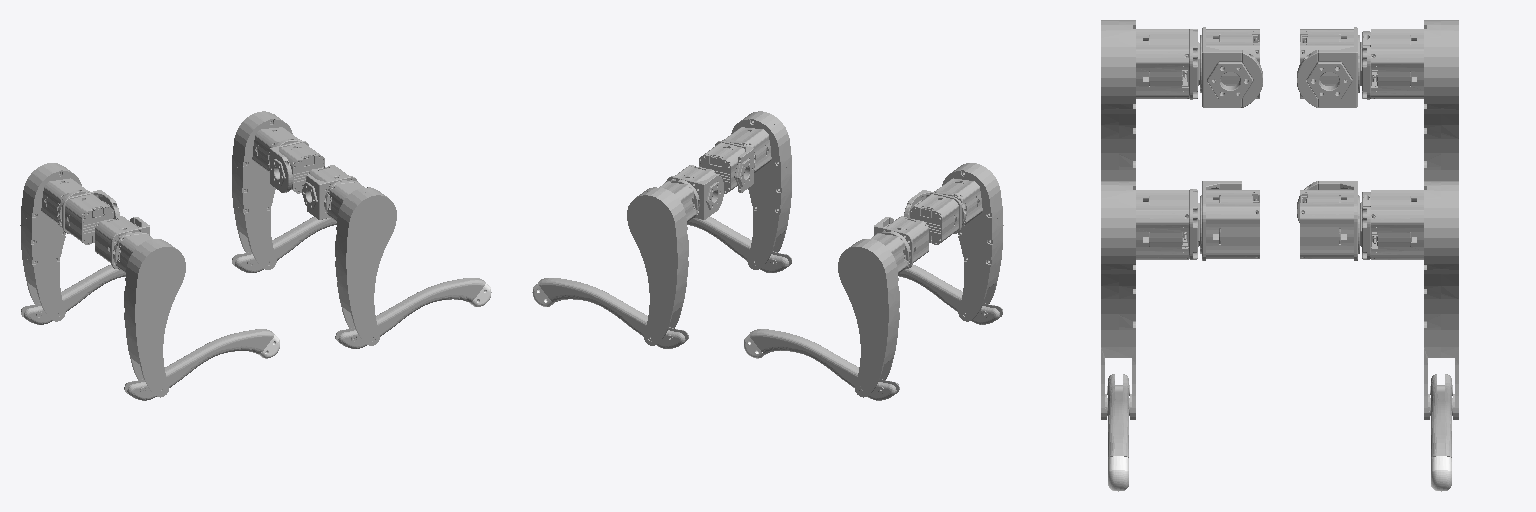
robot.urdf — HTDW_4438:
<?xml version="1.0" encoding="utf-8"?>
<!-- This URDF was automatically created by SolidWorks to URDF Exporter! Originally created by Stephen Brawner (brawner@gmail.com) 
     Commit Version: 1.6.0-4-g7f85cfe  Build Version: 1.6.7995.38578
     For more information, please see http://wiki.ros.org/sw_urdf_exporter -->
<robot
  name="HTDW_4438">
  <link
    name="base_link">
    <inertial>
      <origin
        xyz="0.00530896551307613 -0.00488146257129768 -0.00108926209888666"
        rpy="0 0 0" />
      <mass
        value="1.43623232112764" />
      <inertia
        ixx="0.00250133385652122"
        ixy="6.39361065374969E-07"
        ixz="-1.0452226731273E-05"
        iyy="0.00138602302847275"
        iyz="3.25031693171409E-06"
        izz="0.00209109142943327" />
    </inertial>
    <visual>
      <origin
        xyz="0 0 0"
        rpy="0 0 0" />
      <geometry>
        <mesh
          filename="package://HTDW_4438/meshes/base_link.STL" />
      </geometry>
      <material
        name="">
        <color
          rgba="0.752941176470588 0.752941176470588 0.752941176470588 1" />
      </material>
    </visual>
    <collision>
      <origin
        xyz="0 0 0"
        rpy="0 0 0" />
      <geometry>
        <mesh
          filename="package://HTDW_4438/meshes/base_link.STL" />
      </geometry>
    </collision>
  </link>
  <link
    name="FL_hip">
    <inertial>
      <origin
        xyz="-0.0111759629018527 0.00214843118796923 -6.73729768025972E-05"
        rpy="0 0 0" />
      <mass
        value="0.0627632437664346" />
      <inertia
        ixx="1.3803393905315E-05"
        ixy="6.66942635042805E-07"
        ixz="-7.58770616204289E-08"
        iyy="1.96862600319711E-05"
        iyz="-5.78497161164386E-10"
        izz="1.17112014993658E-05" />
    </inertial>
    <visual>
      <origin
        xyz="0 0 0"
        rpy="0 0 0" />
      <geometry>
        <mesh
          filename="package://HTDW_4438/meshes/FL_hip.STL" />
      </geometry>
      <material
        name="">
        <color
          rgba="0.752941176470588 0.752941176470588 0.752941176470588 1" />
      </material>
    </visual>
    <collision>
      <origin
        xyz="0 0 0"
        rpy="0 0 0" />
      <geometry>
        <mesh
          filename="package://HTDW_4438/meshes/FL_hip.STL" />
      </geometry>
    </collision>
  </link>
  <joint
    name="FL_hip_joint"
    type="revolute">
    <origin
      xyz="0.14165 0.037 0"
      rpy="0 0 0" />
    <parent
      link="base_link" />
    <child
      link="FL_hip" />
    <axis
      xyz="1 0 0" />
    <limit
      lower="-1.05"
      upper="1.05"
      effort="10"
      velocity="9.5" />
  </joint>
  <link
    name="FL_thigh">
    <inertial>
      <origin
        xyz="-0.00521760104508412 -0.00884351155354038 -0.0377205675754853"
        rpy="0 0 0" />
      <mass
        value="0.264760738721982" />
      <inertia
        ixx="0.000419195858566498"
        ixy="2.0373823188593E-07"
        ixz="3.32812781125961E-05"
        iyy="0.000482532194951316"
        iyz="1.4016386593396E-06"
        izz="7.04214920355373E-05" />
    </inertial>
    <visual>
      <origin
        xyz="0 0 0"
        rpy="0 0 0" />
      <geometry>
        <mesh
          filename="package://HTDW_4438/meshes/FL_thigh.STL" />
      </geometry>
      <material
        name="">
        <color
          rgba="0.752941176470588 0.752941176470588 0.752941176470588 1" />
      </material>
    </visual>
    <collision>
      <origin
        xyz="0 0 0"
        rpy="0 0 0" />
      <geometry>
        <mesh
          filename="package://HTDW_4438/meshes/FL_thigh.STL" />
      </geometry>
    </collision>
  </link>
  <joint
    name="FL_thigh_joint"
    type="revolute">
    <origin
      xyz="0 0.0834 0"
      rpy="0 0 0" />
    <parent
      link="FL_hip" />
    <child
      link="FL_thigh" />
    <axis
      xyz="0 1 0" />
    <limit
      lower="-1.57"
      upper="3.49"
      effort="10"
      velocity="9.5" />
  </joint>
  <link
    name="FL_calf">
    <inertial>
      <origin
        xyz="0.0102816704612575 1.62244585370785E-06 -0.0628030759324845"
        rpy="0 0 0" />
      <mass
        value="0.153268276445712" />
      <inertia
        ixx="0.000477376654736183"
        ixy="-3.21834592213819E-09"
        ixz="-3.36524070741435E-05"
        iyy="0.000486852091359258"
        iyz="1.61974553789063E-08"
        izz="1.52089082122725E-05" />
    </inertial>
    <visual>
      <origin
        xyz="0 0 0"
        rpy="0 0 0" />
      <geometry>
        <mesh
          filename="package://HTDW_4438/meshes/FL_calf.STL" />
      </geometry>
      <material
        name="">
        <color
          rgba="0.752941176470588 0.752941176470588 0.752941176470588 1" />
      </material>
    </visual>
    <collision>
      <origin
        xyz="0 0 0"
        rpy="0 0 0" />
      <geometry>
        <mesh
          filename="package://HTDW_4438/meshes/FL_calf.STL" />
      </geometry>
    </collision>
  </link>
  <joint
    name="FL_calf_joint"
    type="revolute">
    <origin
      xyz="0 0 -0.15"
      rpy="0 0 0" />
    <parent
      link="FL_thigh" />
    <child
      link="FL_calf" />
    <axis
      xyz="0 1 0" />
    <limit
      lower="-2.53"
      upper="-0.84"
      effort="10"
      velocity="9.5" />
  </joint>
  <link
    name="FL_foot">
    <inertial>
      <origin
        xyz="-0.0039627037166873 -1.23541049612541E-09 -0.00314460024957436"
        rpy="0 0 0" />
      <mass
        value="0.0049215011738973" />
      <inertia
        ixx="3.63899112539145E-07"
        ixy="-3.6349439944636E-14"
        ixz="-7.35255072020136E-08"
        iyy="4.62050344128477E-07"
        iyz="6.12968834920132E-16"
        izz="3.29588352929664E-07" />
    </inertial>
    <visual>
      <origin
        xyz="0 0 0"
        rpy="0 0 0" />
      <geometry>
        <mesh
          filename="package://HTDW_4438/meshes/FL_foot.STL" />
      </geometry>
      <material
        name="">
        <color
          rgba="1 1 1 1" />
      </material>
    </visual>
    <collision>
      <origin
        xyz="0 0 0"
        rpy="0 0 0" />
      <geometry>
        <mesh
          filename="package://HTDW_4438/meshes/FL_foot.STL" />
      </geometry>
    </collision>
  </link>
  <joint
    name="FL_foot"
    type="fixed">
    <origin
      xyz="0 0 -0.15"
      rpy="0 0 0" />
    <parent
      link="FL_calf" />
    <child
      link="FL_foot" />
    <axis
      xyz="0 0 0" />
  </joint>
  <link
    name="FR_hip">
    <inertial>
      <origin
        xyz="-0.0111759629055673 -0.00214843119110724 6.73729796222785E-05"
        rpy="0 0 0" />
      <mass
        value="0.0627632437546341" />
      <inertia
        ixx="1.38033939009228E-05"
        ixy="-6.66942636253563E-07"
        ixz="7.58770633167143E-08"
        iyy="1.96862600280616E-05"
        iyz="-5.7849509493772E-10"
        izz="1.17112014969011E-05" />
    </inertial>
    <visual>
      <origin
        xyz="0 0 0"
        rpy="0 0 0" />
      <geometry>
        <mesh
          filename="package://HTDW_4438/meshes/FR_hip.STL" />
      </geometry>
      <material
        name="">
        <color
          rgba="0.752941176470588 0.752941176470588 0.752941176470588 1" />
      </material>
    </visual>
    <collision>
      <origin
        xyz="0 0 0"
        rpy="0 0 0" />
      <geometry>
        <mesh
          filename="package://HTDW_4438/meshes/FR_hip.STL" />
      </geometry>
    </collision>
  </link>
  <joint
    name="FR_hip_joint"
    type="revolute">
    <origin
      xyz="0.14165 -0.037 0"
      rpy="0 0 0" />
    <parent
      link="base_link" />
    <child
      link="FR_hip" />
    <axis
      xyz="1 0 0" />
    <limit
      lower="-1.05"
      upper="1.05"
      effort="10"
      velocity="9.5" />
  </joint>
  <link
    name="FR_thigh">
    <inertial>
      <origin
        xyz="-0.00549077126620562 0.00884349936829019 -0.0378283464808343"
        rpy="0 0 0" />
      <mass
        value="0.264761547925638" />
      <inertia
        ixx="0.000419698172836128"
        ixy="-1.23534365954169E-07"
        ixz="3.05313061101494E-05"
        iyy="0.000482533495029312"
        iyz="-1.39999132850167E-06"
        izz="6.99205189115521E-05" />
    </inertial>
    <visual>
      <origin
        xyz="0 0 0"
        rpy="0 0 0" />
      <geometry>
        <mesh
          filename="package://HTDW_4438/meshes/FR_thigh.STL" />
      </geometry>
      <material
        name="">
        <color
          rgba="0.752941176470588 0.752941176470588 0.752941176470588 1" />
      </material>
    </visual>
    <collision>
      <origin
        xyz="0 0 0"
        rpy="0 0 0" />
      <geometry>
        <mesh
          filename="package://HTDW_4438/meshes/FR_thigh.STL" />
      </geometry>
    </collision>
  </link>
  <joint
    name="FR_thigh_joint"
    type="revolute">
    <origin
      xyz="0 -0.0834 0"
      rpy="0 0 0" />
    <parent
      link="FR_hip" />
    <child
      link="FR_thigh" />
    <axis
      xyz="0 1 0" />
    <limit
      lower="-1.57"
      upper="3.49"
      effort="10"
      velocity="9.5" />
  </joint>
  <link
    name="FR_calf">
    <inertial>
      <origin
        xyz="0.010281672231896 1.62243905685311E-06 -0.0628030804638195"
        rpy="0 0 0" />
      <mass
        value="0.153268271042767" />
      <inertia
        ixx="0.00047737663251671"
        ixy="-3.21812814736722E-09"
        ixz="-3.36524026483139E-05"
        iyy="0.000486852067849437"
        iyz="1.61967931245156E-08"
        izz="1.52089068420327E-05" />
    </inertial>
    <visual>
      <origin
        xyz="0 0 0"
        rpy="0 0 0" />
      <geometry>
        <mesh
          filename="package://HTDW_4438/meshes/FR_calf.STL" />
      </geometry>
      <material
        name="">
        <color
          rgba="0.752941176470588 0.752941176470588 0.752941176470588 1" />
      </material>
    </visual>
    <collision>
      <origin
        xyz="0 0 0"
        rpy="0 0 0" />
      <geometry>
        <mesh
          filename="package://HTDW_4438/meshes/FR_calf.STL" />
      </geometry>
    </collision>
  </link>
  <joint
    name="FR_calf"
    type="revolute">
    <origin
      xyz="0 0 -0.15"
      rpy="0 0 0" />
    <parent
      link="FR_thigh" />
    <child
      link="FR_calf" />
    <axis
      xyz="0 1 0" />
    <limit
      lower="-2.53"
      upper="-0.84"
      effort="10"
      velocity="9.5" />
  </joint>
  <link
    name="FR_foot">
    <inertial>
      <origin
        xyz="-0.00396270246877165 -1.15568347947015E-09 -0.00314460329835686"
        rpy="0 0 0" />
      <mass
        value="0.0049215011738973" />
      <inertia
        ixx="3.63899112539147E-07"
        ixy="-3.63494401535996E-14"
        ixz="-7.35255072020139E-08"
        iyy="4.62050344128478E-07"
        iyz="6.12969100832827E-16"
        izz="3.29588352929664E-07" />
    </inertial>
    <visual>
      <origin
        xyz="0 0 0"
        rpy="0 0 0" />
      <geometry>
        <mesh
          filename="package://HTDW_4438/meshes/FR_foot.STL" />
      </geometry>
      <material
        name="">
        <color
          rgba="1 1 1 1" />
      </material>
    </visual>
    <collision>
      <origin
        xyz="0 0 0"
        rpy="0 0 0" />
      <geometry>
        <mesh
          filename="package://HTDW_4438/meshes/FR_foot.STL" />
      </geometry>
    </collision>
  </link>
  <joint
    name="FR_foot_joint"
    type="fixed">
    <origin
      xyz="0 0 -0.15"
      rpy="0 0 0" />
    <parent
      link="FR_calf" />
    <child
      link="FR_foot" />
    <axis
      xyz="0 0 0" />
  </joint>
  <link
    name="RL_hip">
    <inertial>
      <origin
        xyz="0.01117596290331 0.0021484311877196 6.73729766615227E-05"
        rpy="0 0 0" />
      <mass
        value="0.0627632437669057" />
      <inertia
        ixx="1.38033939057253E-05"
        ixy="-6.66942637432808E-07"
        ixz="-7.58770648949294E-08"
        iyy="1.96862600319623E-05"
        iyz="5.78497392467767E-10"
        izz="1.17112014994272E-05" />
    </inertial>
    <visual>
      <origin
        xyz="0 0 0"
        rpy="0 0 0" />
      <geometry>
        <mesh
          filename="package://HTDW_4438/meshes/RL_hip.STL" />
      </geometry>
      <material
        name="">
        <color
          rgba="0.752941176470588 0.752941176470588 0.752941176470588 1" />
      </material>
    </visual>
    <collision>
      <origin
        xyz="0 0 0"
        rpy="0 0 0" />
      <geometry>
        <mesh
          filename="package://HTDW_4438/meshes/RL_hip.STL" />
      </geometry>
    </collision>
  </link>
  <joint
    name="RL_hip_joint"
    type="revolute">
    <origin
      xyz="-0.14165 0.037 0"
      rpy="0 0 0" />
    <parent
      link="base_link" />
    <child
      link="RL_hip" />
    <axis
      xyz="1 0 0" />
    <limit
      lower="-1.05"
      upper="1.05"
      effort="10"
      velocity="9.5" />
  </joint>
  <link
    name="RL_thigh">
    <inertial>
      <origin
        xyz="-0.00547943405095322 -0.00884351240774998 -0.0377313917818914"
        rpy="0 0 0" />
      <mass
        value="0.264760738558349" />
      <inertia
        ixx="0.00041915228548236"
        ixy="1.23634804848232E-07"
        ixz="3.27510424560042E-05"
        iyy="0.000482532194887537"
        iyz="1.39845403438416E-06"
        izz="7.04650650580959E-05" />
    </inertial>
    <visual>
      <origin
        xyz="0 0 0"
        rpy="0 0 0" />
      <geometry>
        <mesh
          filename="package://HTDW_4438/meshes/RL_thigh.STL" />
      </geometry>
      <material
        name="">
        <color
          rgba="0.752941176470588 0.752941176470588 0.752941176470588 1" />
      </material>
    </visual>
    <collision>
      <origin
        xyz="0 0 0"
        rpy="0 0 0" />
      <geometry>
        <mesh
          filename="package://HTDW_4438/meshes/RL_thigh.STL" />
      </geometry>
    </collision>
  </link>
  <joint
    name="RL_thigh_joint"
    type="revolute">
    <origin
      xyz="0 0.0834 0"
      rpy="0 0 0" />
    <parent
      link="RL_hip" />
    <child
      link="RL_thigh" />
    <axis
      xyz="0 1 0" />
    <limit
      lower="-1.57"
      upper="3.49"
      effort="10"
      velocity="9.5" />
  </joint>
  <link
    name="RL_calf">
    <inertial>
      <origin
        xyz="0.0102816705479437 1.62242974789673E-06 -0.0628030755658535"
        rpy="0 0 0" />
      <mass
        value="0.153268275649899" />
      <inertia
        ixx="0.000477376652292343"
        ixy="-3.21831137380456E-09"
        ixz="-3.36524076725698E-05"
        iyy="0.000486852088816872"
        iyz="1.61975255898789E-08"
        izz="1.52089081255875E-05" />
    </inertial>
    <visual>
      <origin
        xyz="0 0 0"
        rpy="0 0 0" />
      <geometry>
        <mesh
          filename="package://HTDW_4438/meshes/RL_calf.STL" />
      </geometry>
      <material
        name="">
        <color
          rgba="0.752941176470588 0.752941176470588 0.752941176470588 1" />
      </material>
    </visual>
    <collision>
      <origin
        xyz="0 0 0"
        rpy="0 0 0" />
      <geometry>
        <mesh
          filename="package://HTDW_4438/meshes/RL_calf.STL" />
      </geometry>
    </collision>
  </link>
  <joint
    name="RL_calf_joint"
    type="revolute">
    <origin
      xyz="0 0 -0.15"
      rpy="0 0 0" />
    <parent
      link="RL_thigh" />
    <child
      link="RL_calf" />
    <axis
      xyz="0 1 0" />
    <limit
      lower="-2.53"
      upper="-0.84"
      effort="10"
      velocity="9.5" />
  </joint>
  <link
    name="RL_foot">
    <inertial>
      <origin
        xyz="-0.00396270368124382 -1.23541084307011E-09 -0.00314460018815149"
        rpy="0 0 0" />
      <mass
        value="0.00492150117389732" />
      <inertia
        ixx="3.63899112539148E-07"
        ixy="-3.63494399192149E-14"
        ixz="-7.35255072020145E-08"
        iyy="4.6205034412848E-07"
        iyz="6.12968247237204E-16"
        izz="3.29588352929665E-07" />
    </inertial>
    <visual>
      <origin
        xyz="0 0 0"
        rpy="0 0 0" />
      <geometry>
        <mesh
          filename="package://HTDW_4438/meshes/RL_foot.STL" />
      </geometry>
      <material
        name="">
        <color
          rgba="1 1 1 1" />
      </material>
    </visual>
    <collision>
      <origin
        xyz="0 0 0"
        rpy="0 0 0" />
      <geometry>
        <mesh
          filename="package://HTDW_4438/meshes/RL_foot.STL" />
      </geometry>
    </collision>
  </link>
  <joint
    name="RL_foot_joint"
    type="fixed">
    <origin
      xyz="0 0 -0.15"
      rpy="0 0 0" />
    <parent
      link="RL_calf" />
    <child
      link="RL_foot" />
    <axis
      xyz="0 0 0" />
  </joint>
  <link
    name="RR_hip">
    <inertial>
      <origin
        xyz="0.0111759629018528 -0.00214843118796951 -6.73729768046417E-05"
        rpy="0 0 0" />
      <mass
        value="0.0627632437664321" />
      <inertia
        ixx="1.38033939053113E-05"
        ixy="6.66942635042661E-07"
        ixz="7.58770616206376E-08"
        iyy="1.96862600319675E-05"
        iyz="5.78497160273416E-10"
        izz="1.17112014993653E-05" />
    </inertial>
    <visual>
      <origin
        xyz="0 0 0"
        rpy="0 0 0" />
      <geometry>
        <mesh
          filename="package://HTDW_4438/meshes/RR_hip.STL" />
      </geometry>
      <material
        name="">
        <color
          rgba="0.752941176470588 0.752941176470588 0.752941176470588 1" />
      </material>
    </visual>
    <collision>
      <origin
        xyz="0 0 0"
        rpy="0 0 0" />
      <geometry>
        <mesh
          filename="package://HTDW_4438/meshes/RR_hip.STL" />
      </geometry>
    </collision>
  </link>
  <joint
    name="RR_hip_joint"
    type="revolute">
    <origin
      xyz="-0.14165 -0.037 0"
      rpy="0 0 0" />
    <parent
      link="base_link" />
    <child
      link="RR_hip" />
    <axis
      xyz="1 0 0" />
    <limit
      lower="-1.05"
      upper="1.05"
      effort="10"
      velocity="9.5" />
  </joint>
  <link
    name="RR_thigh">
    <inertial>
      <origin
        xyz="-0.0054907716696686 0.00884349937337919 -0.0378283466017015"
        rpy="0 0 0" />
      <mass
        value="0.264761547961981" />
      <inertia
        ixx="0.000419698172844216"
        ixy="-1.23534363661181E-07"
        ixz="3.05313061079485E-05"
        iyy="0.000482533495040932"
        iyz="-1.39999132747296E-06"
        izz="6.99205189248877E-05" />
    </inertial>
    <visual>
      <origin
        xyz="0 0 0"
        rpy="0 0 0" />
      <geometry>
        <mesh
          filename="package://HTDW_4438/meshes/RR_thigh.STL" />
      </geometry>
      <material
        name="">
        <color
          rgba="0.752941176470588 0.752941176470588 0.752941176470588 1" />
      </material>
    </visual>
    <collision>
      <origin
        xyz="0 0 0"
        rpy="0 0 0" />
      <geometry>
        <mesh
          filename="package://HTDW_4438/meshes/RR_thigh.STL" />
      </geometry>
    </collision>
  </link>
  <joint
    name="RR_thigh_joint"
    type="revolute">
    <origin
      xyz="0 -0.0834 0"
      rpy="0 0 0" />
    <parent
      link="RR_hip" />
    <child
      link="RR_thigh" />
    <axis
      xyz="0 1 0" />
    <limit
      lower="-1.57"
      upper="3.49"
      effort="10"
      velocity="9.5" />
  </joint>
  <link
    name="RR_calf">
    <inertial>
      <origin
        xyz="0.0102816705463298 1.62243321659428E-06 -0.0628030755968962"
        rpy="0 0 0" />
      <mass
        value="0.153268275552393" />
      <inertia
        ixx="0.000477376652020847"
        ixy="-3.21830919936565E-09"
        ixz="-3.36524076794089E-05"
        iyy="0.000486852088548227"
        iyz="1.61975539373345E-08"
        izz="1.52089081224516E-05" />
    </inertial>
    <visual>
      <origin
        xyz="0 0 0"
        rpy="0 0 0" />
      <geometry>
        <mesh
          filename="package://HTDW_4438/meshes/RR_calf.STL" />
      </geometry>
      <material
        name="">
        <color
          rgba="0.752941176470588 0.752941176470588 0.752941176470588 1" />
      </material>
    </visual>
    <collision>
      <origin
        xyz="0 0 0"
        rpy="0 0 0" />
      <geometry>
        <mesh
          filename="package://HTDW_4438/meshes/RR_calf.STL" />
      </geometry>
    </collision>
  </link>
  <joint
    name="RR_calf_joint"
    type="revolute">
    <origin
      xyz="0 0 -0.15"
      rpy="0 0 0" />
    <parent
      link="RR_thigh" />
    <child
      link="RR_calf" />
    <axis
      xyz="0 1 0" />
    <limit
      lower="-2.53"
      upper="-0.84"
      effort="10"
      velocity="9.5" />
  </joint>
  <link
    name="RR_foot">
    <inertial>
      <origin
        xyz="-0.0039627036812471 -1.23541075980338E-09 -0.00314460018815022"
        rpy="0 0 0" />
      <mass
        value="0.00492150117389729" />
      <inertia
        ixx="3.63899112539145E-07"
        ixy="-3.63494401050263E-14"
        ixz="-7.35255072020133E-08"
        iyy="4.62050344128476E-07"
        iyz="6.1296877466759E-16"
        izz="3.29588352929663E-07" />
    </inertial>
    <visual>
      <origin
        xyz="0 0 0"
        rpy="0 0 0" />
      <geometry>
        <mesh
          filename="package://HTDW_4438/meshes/RR_foot.STL" />
      </geometry>
      <material
        name="">
        <color
          rgba="1 1 1 1" />
      </material>
    </visual>
    <collision>
      <origin
        xyz="0 0 0"
        rpy="0 0 0" />
      <geometry>
        <mesh
          filename="package://HTDW_4438/meshes/RR_foot.STL" />
      </geometry>
    </collision>
  </link>
  <joint
    name="RR_foot_joint"
    type="fixed">
    <origin
      xyz="0 0 -0.15"
      rpy="0 0 0" />
    <parent
      link="RR_calf" />
    <child
      link="RR_foot" />
    <axis
      xyz="0 0 0" />
  </joint>
</robot>

--- Render facts (derived) ---
3 views of the same robot in one strip: view 1: azimuth 30°, elevation 25°; view 2: azimuth 150°, elevation 25°; view 3: azimuth 270°, elevation 25° (orthographic).
Robot: HTDW_4438 — 17 links, 16 joints (12 revolute, 4 fixed); root link base_link; default pose: joints at zero except 4 at the middle of their limits (FL_calf_joint = -1.69, FR_calf = -1.69, RL_calf_joint = -1.69, RR_calf_joint = -1.69).
Visible links, largest first — view 1: RR_thigh, FR_thigh, RL_thigh, FL_thigh, RR_calf, FR_calf, RL_hip, FL_hip, RL_calf, FL_calf, FR_hip, RR_hip; view 2: FL_thigh, RL_thigh, RR_thigh, FR_thigh, RL_calf, FL_calf, RR_hip, FR_hip, RR_calf, FR_calf, FL_hip, RL_hip; view 3: FR_thigh, FL_thigh, RR_thigh, RL_thigh, RL_hip, RR_hip, FL_hip, FR_hip, FL_calf, FR_calf, FL_foot, FR_foot.
Link boxes in pixels (<box>): RR_thigh: <box>113,232,185,397</box>; FR_thigh: <box>324,180,396,345</box>; RL_thigh: <box>20,163,89,321</box>; FL_thigh: <box>232,111,301,269</box>; RR_calf: <box>124,329,274,400</box>; FR_calf: <box>335,278,485,348</box>; RL_hip: <box>62,190,119,244</box>; FL_hip: <box>270,141,324,193</box>; RL_calf: <box>21,265,125,324</box>; FL_calf: <box>232,217,336,272</box>; FR_hip: <box>302,165,357,219</box>; RR_hip: <box>95,216,149,268</box>; FL_thigh: <box>627,179,699,345</box>; RL_thigh: <box>838,231,910,397</box>; RR_thigh: <box>934,163,1003,321</box>; FR_thigh: <box>722,111,791,269</box>; RL_calf: <box>749,329,899,400</box>; FL_calf: <box>538,278,688,348</box>; RR_hip: <box>904,190,961,244</box>; FR_hip: <box>699,141,753,193</box>; RR_calf: <box>898,265,1002,324</box>; FR_calf: <box>687,217,791,272</box>; FL_hip: <box>666,165,723,219</box>; RL_hip: <box>874,216,928,268</box>; FR_thigh: <box>1101,181,1199,419</box>; FL_thigh: <box>1360,181,1458,419</box>; RR_thigh: <box>1101,20,1199,180</box>; RL_thigh: <box>1360,20,1458,180</box>; RL_hip: <box>1297,27,1359,107</box>; RR_hip: <box>1200,27,1262,107</box>; FL_hip: <box>1297,181,1359,260</box>; FR_hip: <box>1200,181,1259,260</box>; FL_calf: <box>1430,374,1452,457</box>; FR_calf: <box>1107,374,1129,457</box>; FL_foot: <box>1431,456,1451,491</box>; FR_foot: <box>1108,456,1128,491</box>.
Size in the robot's own frame: 0.4887 by 0.2668 by 0.1968 metres.
16 mesh visuals loaded from 17 distinct referenced files (16 binary STL); not drawn: 1 (reference not matched to a file when rendering).
